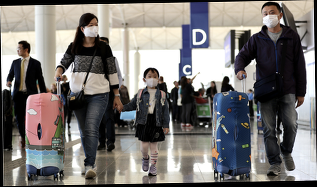with_mask: (262, 8, 281, 30), (84, 20, 100, 39), (146, 72, 160, 88)
without_mask: (16, 45, 25, 56)
